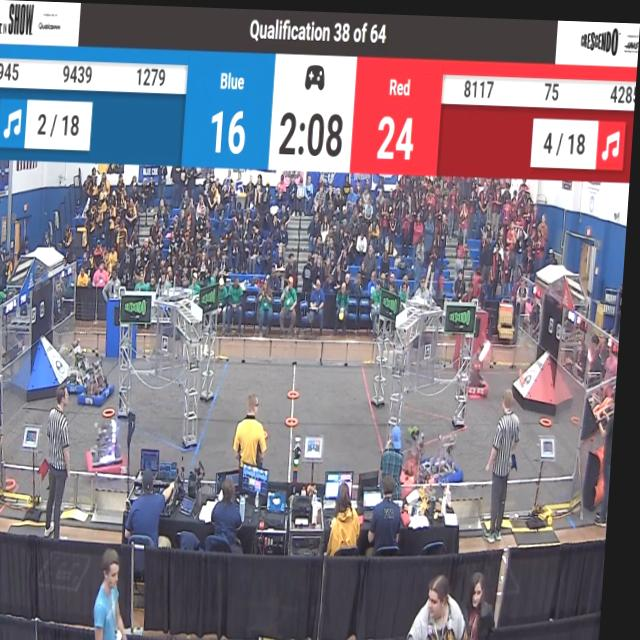Robot: (91, 404, 137, 477), (424, 420, 472, 489), (83, 349, 121, 410), (466, 334, 497, 400), (70, 341, 101, 393), (408, 423, 433, 480)
